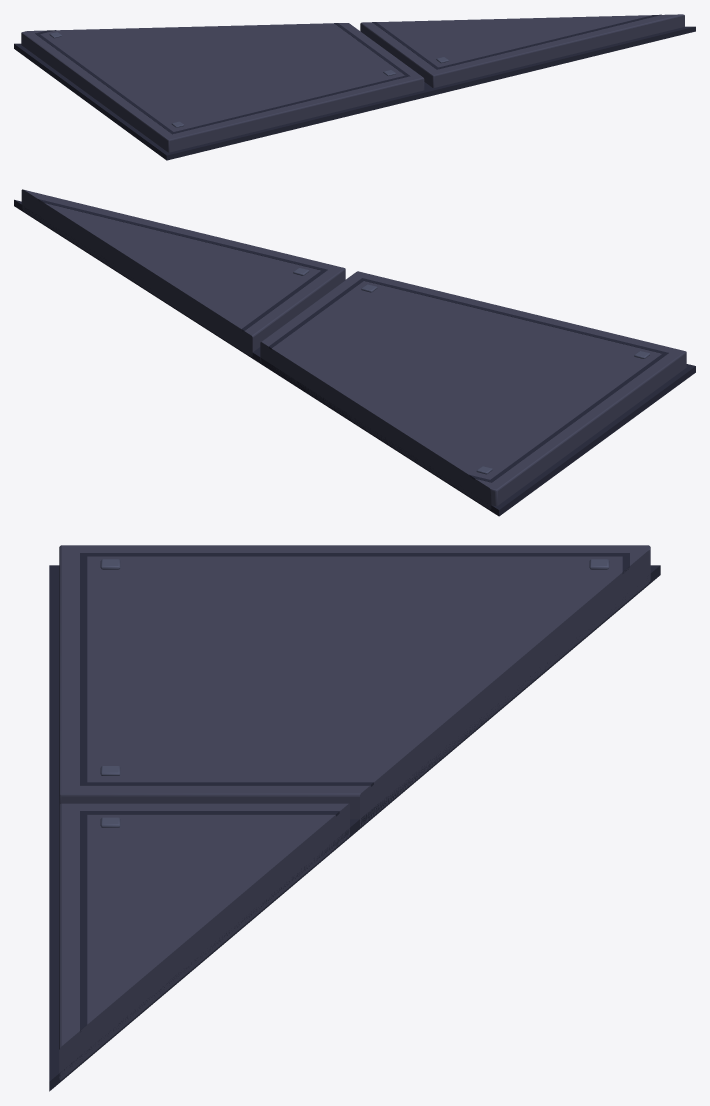
File: floor.slope2.plate.glb
The picture shows the model from 3 angles, top to bottom: view 1: azimuth 30°, elevation 25°; view 2: azimuth 150°, elevation 25°; view 3: azimuth 270°, elevation 25°; orthographic projection. The views are drawn at different scales.
Parts seen in each view (by area): view 1: GEO-floor.slope2.plate; view 2: GEO-floor.slope2.plate; view 3: GEO-floor.slope2.plate.
Boxes of the visible parts, x1,y1,x2,y2 form: GEO-floor.slope2.plate: (14,14,695,160); GEO-floor.slope2.plate: (14,189,695,516); GEO-floor.slope2.plate: (49,545,660,1091).
Bounding box in the file's own units: 2 × 0.069 × 1.
